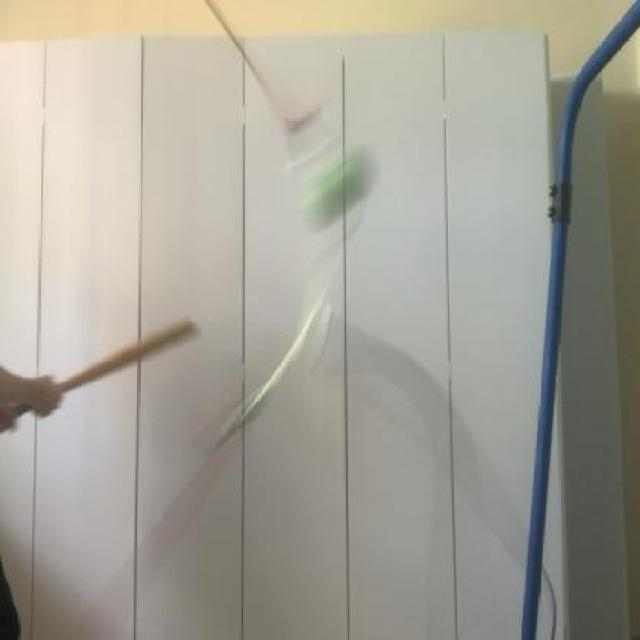baseball: (291, 136, 383, 244)
